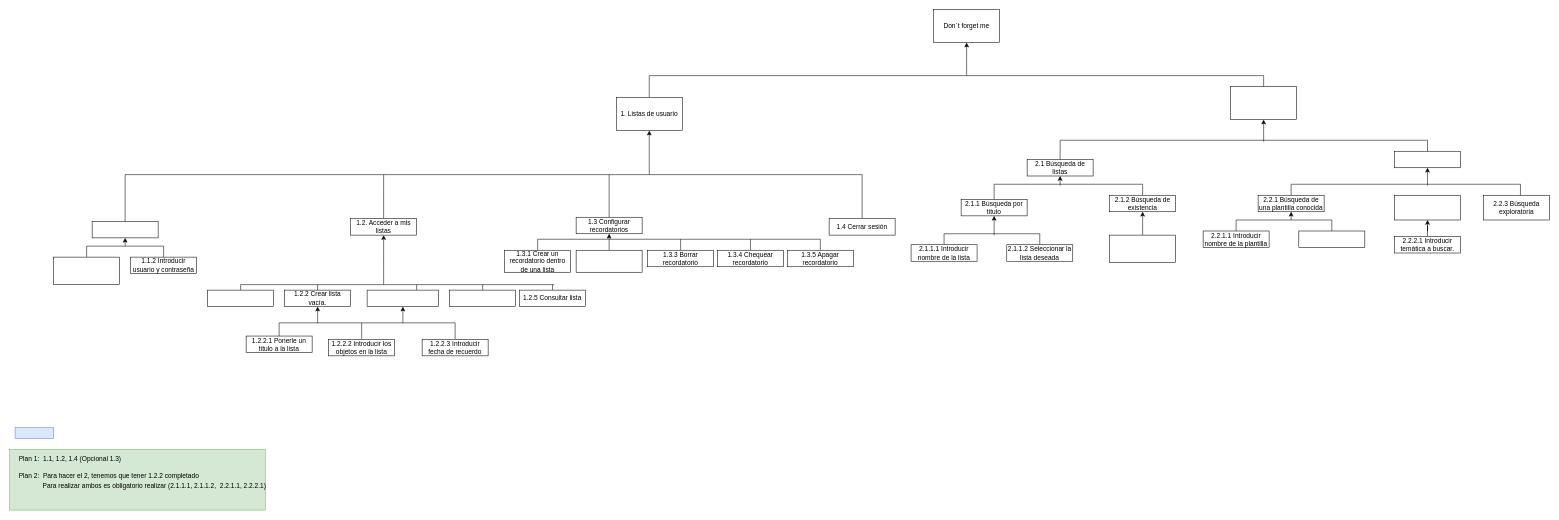
This 1559x520 diagram has some shape labels left out. The shapes that lost their labels are listed below. From the top down, each one's centre as x and y in pixels, then its label:
pixel 1263 103: 2. Búsquedas
pixel 1427 159: 2.2 Búsqueda de plantillas
pixel 1427 207: 2.2.2 Búsqueda de todas las plantillas de un tema
pixel 125 229: 1.1 Acceder a nuestro perfil
pixel 1142 249: 2.1.2.1 Introduce el titulo para comprobar si existe
pixel 1331 239: 2.2.1.2 Seleccionar la plantilla deseada
pixel 86 271: 1.1.1 Registrarme con usuario y contraseña
pixel 609 261: 1.3.2 Modificar recordatorio en una lista
pixel 240 298: 1.2.1. Modificar mi lista
pixel 403 298: 1.2.3 Crear lista a partir de una predefinida.
pixel 482 298: 1.2.4 Borrar lista
pixel 34 433: Planes
